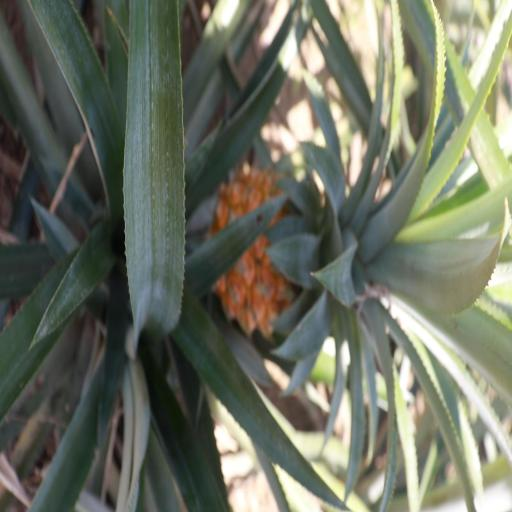Pineapple - v8 v1: (217, 165, 507, 328)
